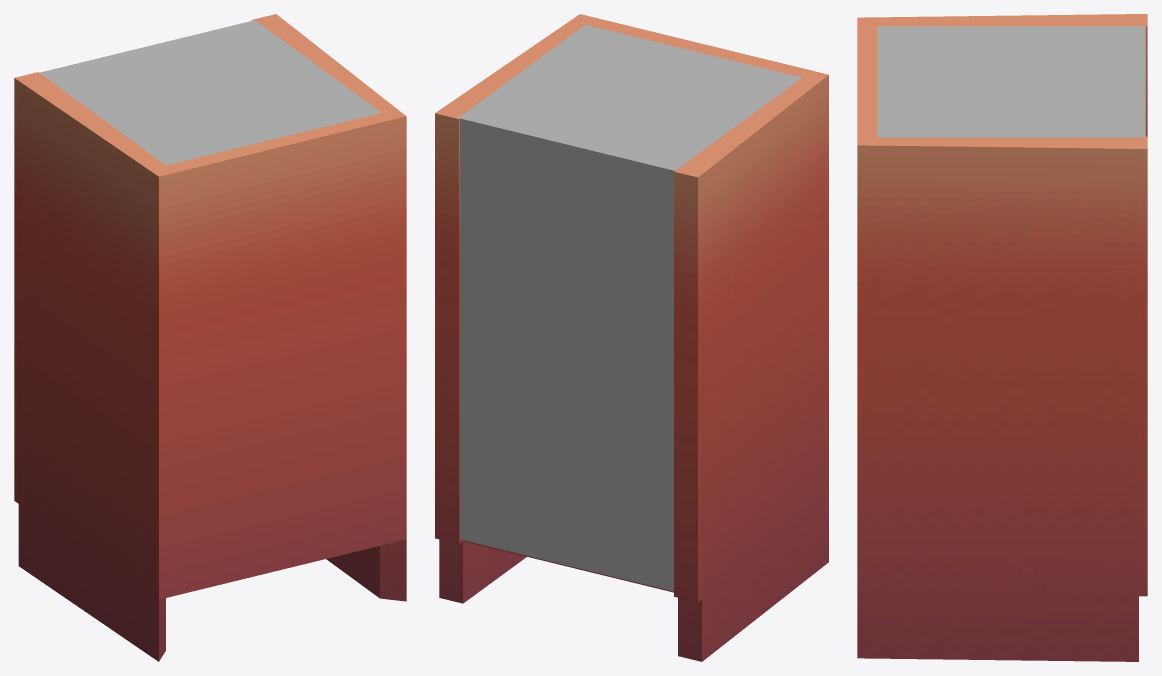
File: Cabinet.fbx
3 views of the same model, side by side, from view 1: azimuth 30°, elevation 25°; view 2: azimuth 150°, elevation 25°; view 3: azimuth 270°, elevation 25° (orthographic). The views are drawn at different scales.
Parts seen in each view (by area): view 1: Box002, glass; view 2: glass, Box002; view 3: Box002, glass.
Part boxes in pixels (<box>): Box002: <box>14,14,406,661</box>; glass: <box>39,20,381,165</box>; glass: <box>458,25,801,591</box>; Box002: <box>435,14,828,661</box>; Box002: <box>857,14,1147,661</box>; glass: <box>877,26,1145,137</box>.
Bounding box in the file's own units: 110 × 195 × 100.
2 materials, 1 textured.
